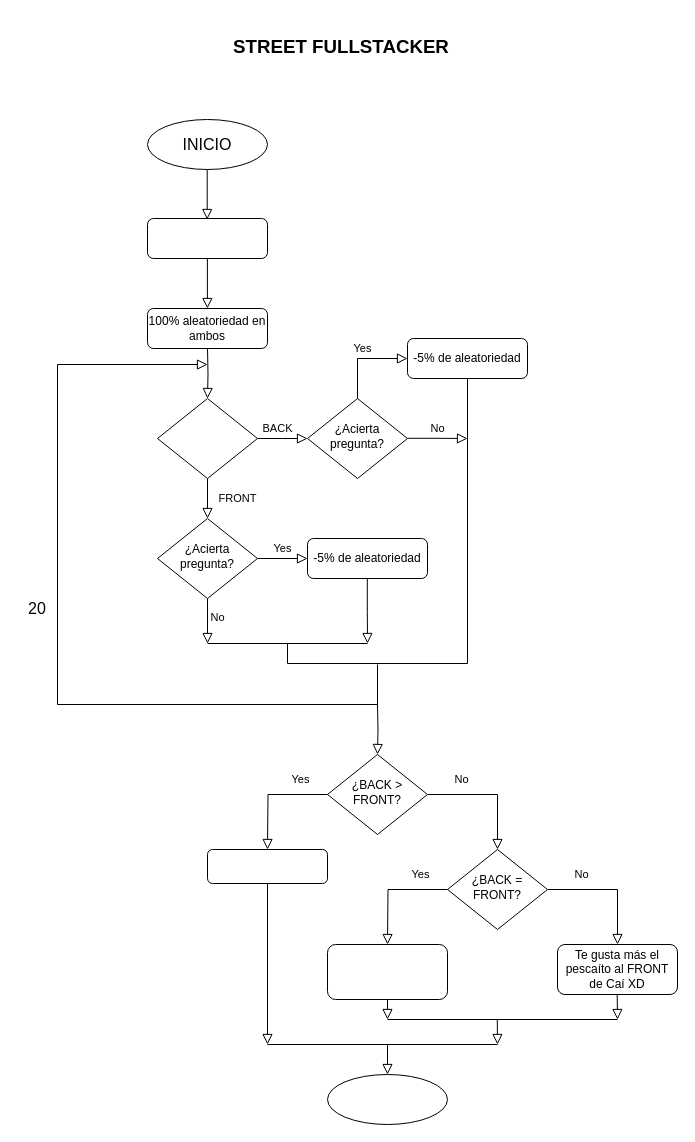
The diagram is 695 pixels wide and 1142 high, and some of its shapes have lost their labels. Here are the shapes that lost their labels. From the top down, the box of each, then its label:
(146, 218, 268, 258): Usuario accede e inicia
(156, 398, 258, 478): BACK vs FRONT
(206, 848, 328, 884): Eres BACK de pata negra ;)
(326, 944, 448, 1000): Tiras D6 para desempate aleatorio (FRONT 1-3, BACK 4-6)
(326, 1074, 448, 1124): FIN
